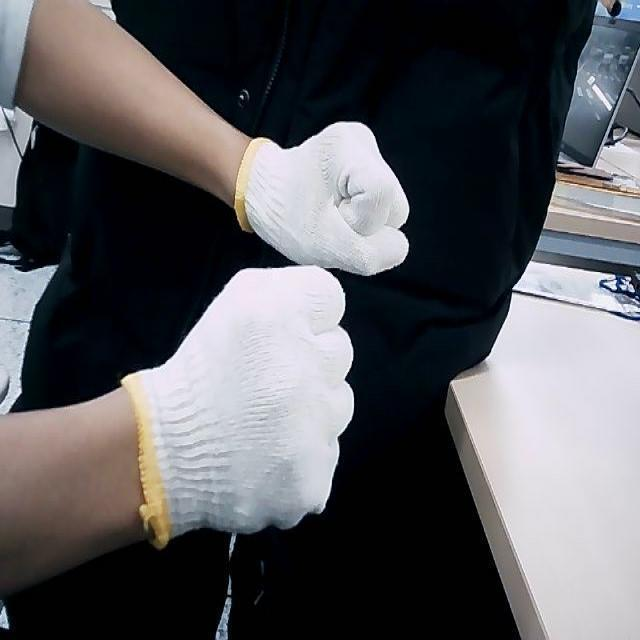glove: (106, 261, 358, 542), (224, 108, 423, 276)
